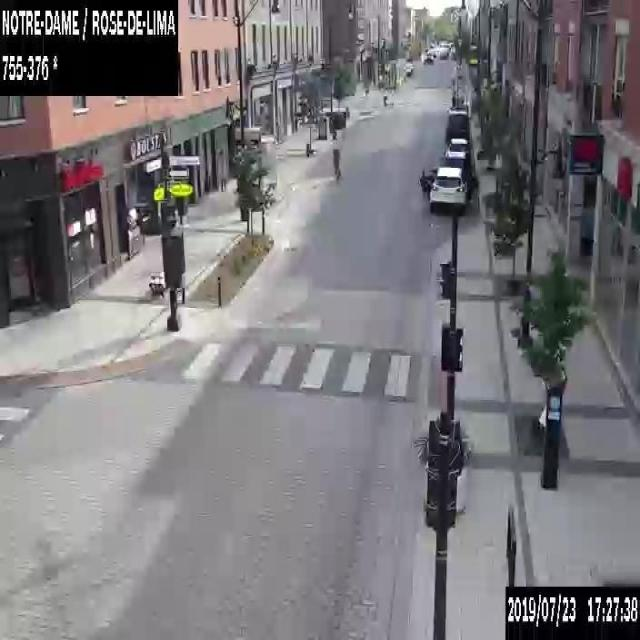pedestrian: (331, 129, 341, 181)
vehicle: (430, 166, 466, 211), (444, 108, 470, 146), (442, 149, 467, 168), (448, 136, 468, 150), (402, 61, 413, 75), (422, 51, 433, 63)
